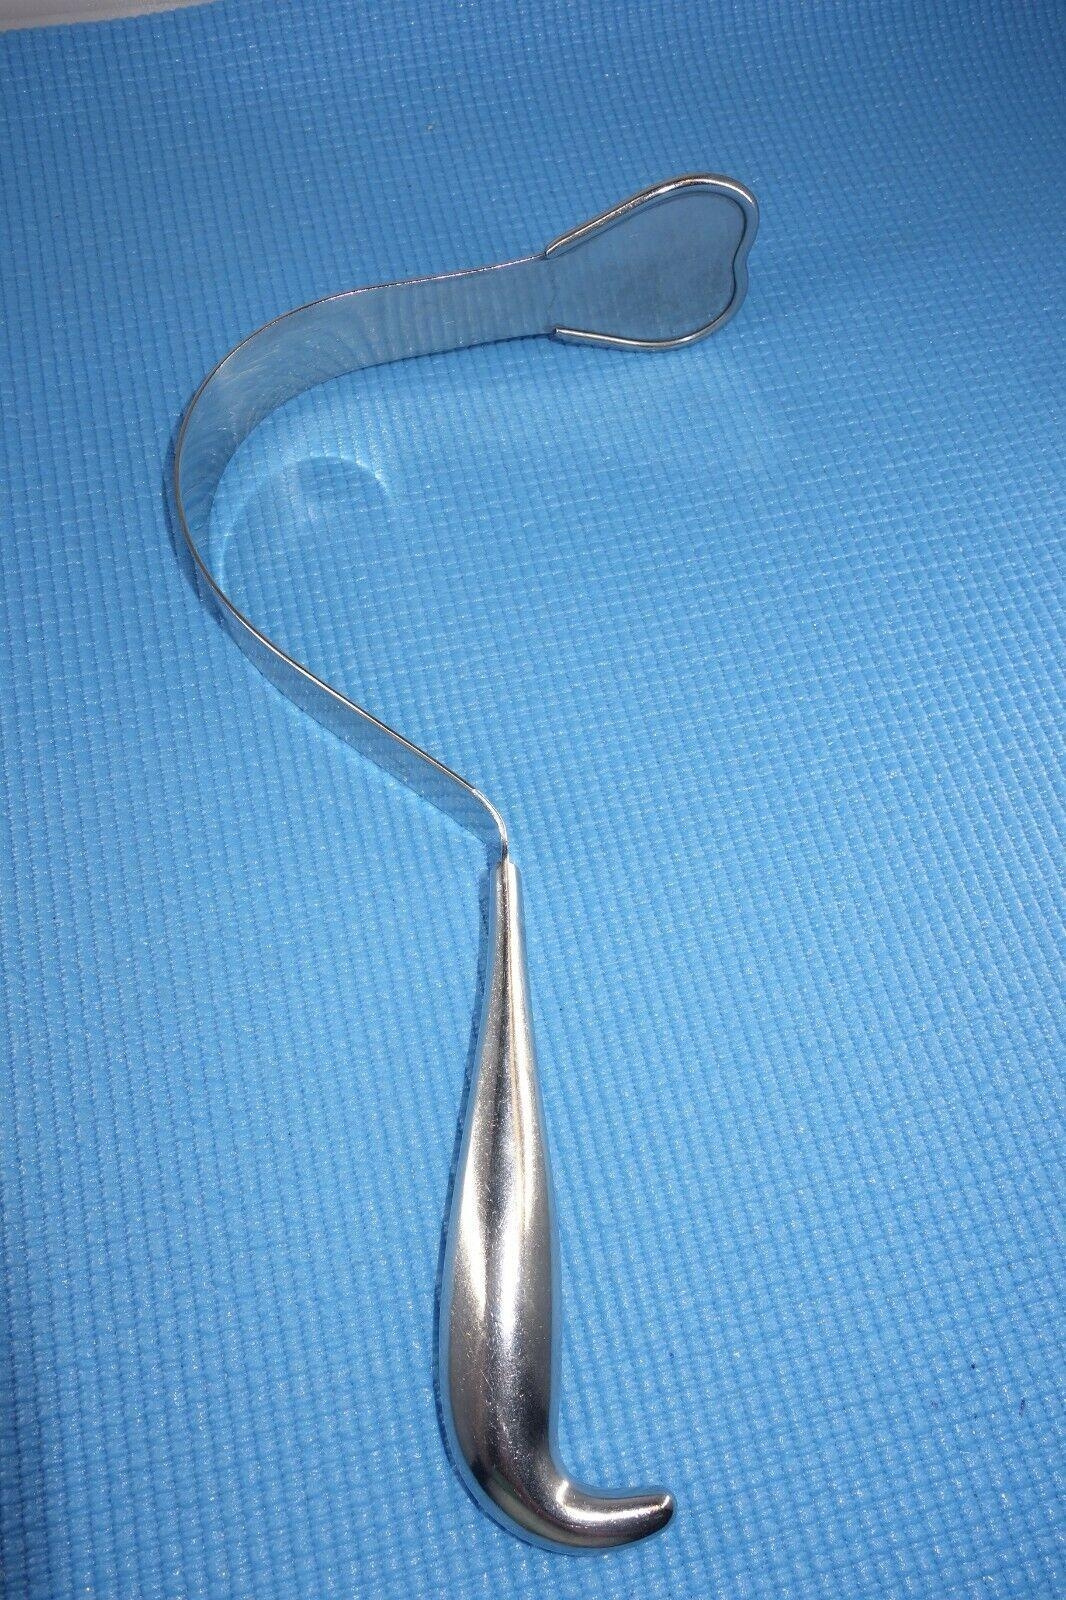Harrington Retractor: (148, 161, 813, 1557)
